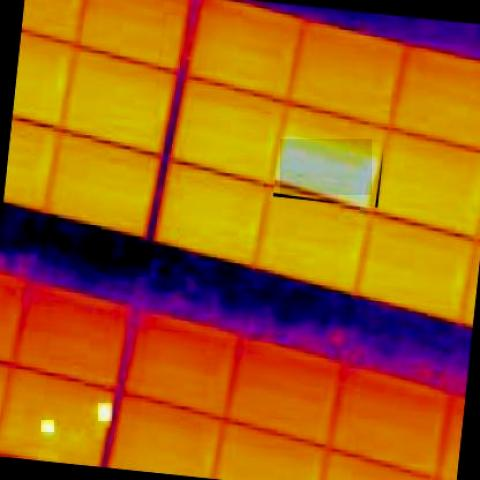fault: (280, 139, 372, 195), (98, 403, 112, 421), (41, 420, 54, 432)
